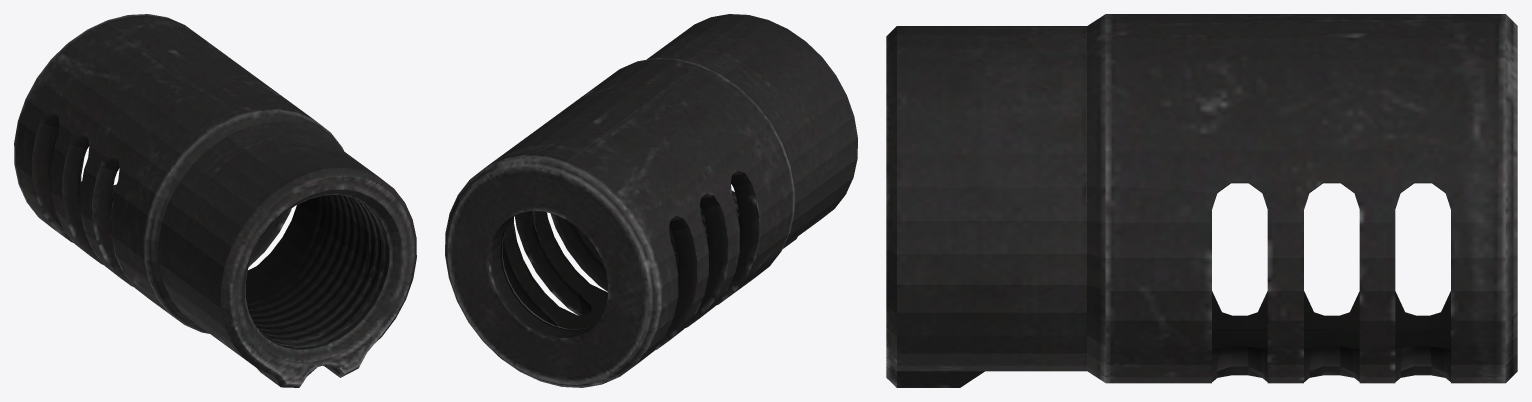
3 views of the same model, side by side, from view 1: azimuth 30°, elevation 25°; view 2: azimuth 150°, elevation 25°; view 3: azimuth 270°, elevation 25° (orthographic). The views are drawn at different scales.
Visible parts, largest first — view 1: TW_5998597786f77414ea6da093_PZ_Import; view 2: TW_5998597786f77414ea6da093_PZ_Import; view 3: TW_5998597786f77414ea6da093_PZ_Import.
Part boxes in pixels (left/top/right/bottom): TW_5998597786f77414ea6da093_PZ_Import: left=14, top=14, right=416, bottom=387; TW_5998597786f77414ea6da093_PZ_Import: left=445, top=14, right=857, bottom=387; TW_5998597786f77414ea6da093_PZ_Import: left=886, top=14, right=1517, bottom=387.
Bounding box in the file's own units: 0.0128 × 0.022 × 0.0129.
Materials: 1 (1 with a texture image).
